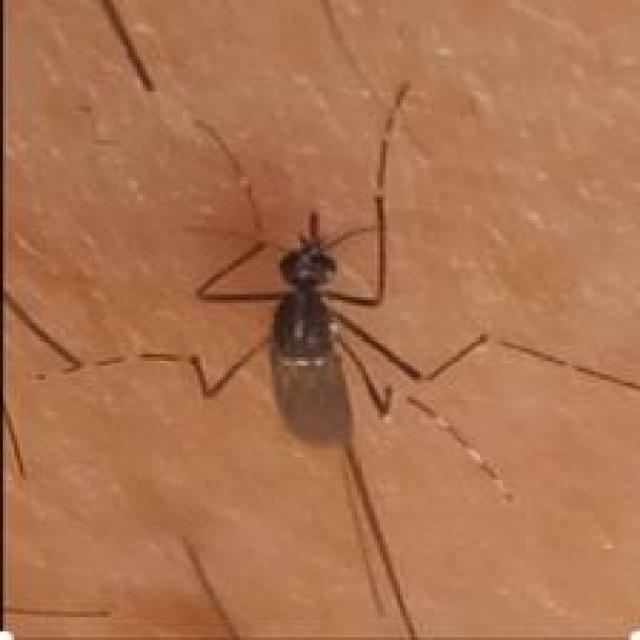Aedes albopictus: (171, 80, 506, 494)
